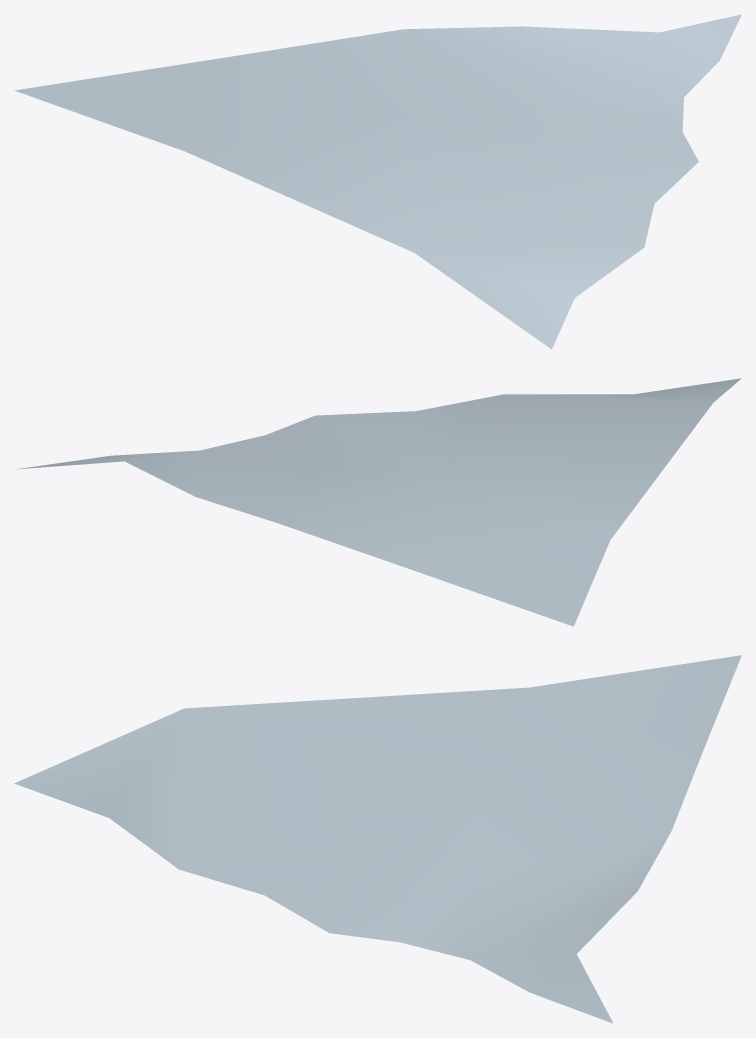
The model's file is nieve4.fbx.
The picture shows the model from 3 angles, top to bottom: view 1: azimuth 30°, elevation 25°; view 2: azimuth 150°, elevation 25°; view 3: azimuth 270°, elevation 25°; orthographic projection. The views are drawn at different scales.
Visible parts, largest first — view 1: Cylinder007; view 2: Cylinder007; view 3: Cylinder007.
Part boxes in pixels (left/top/right/bottom): Cylinder007: left=14, top=14, right=741, bottom=349; Cylinder007: left=17, top=378, right=741, bottom=626; Cylinder007: left=14, top=655, right=741, bottom=1023.
Bounding box in the file's own units: 53.19 × 3.68 × 49.81.
